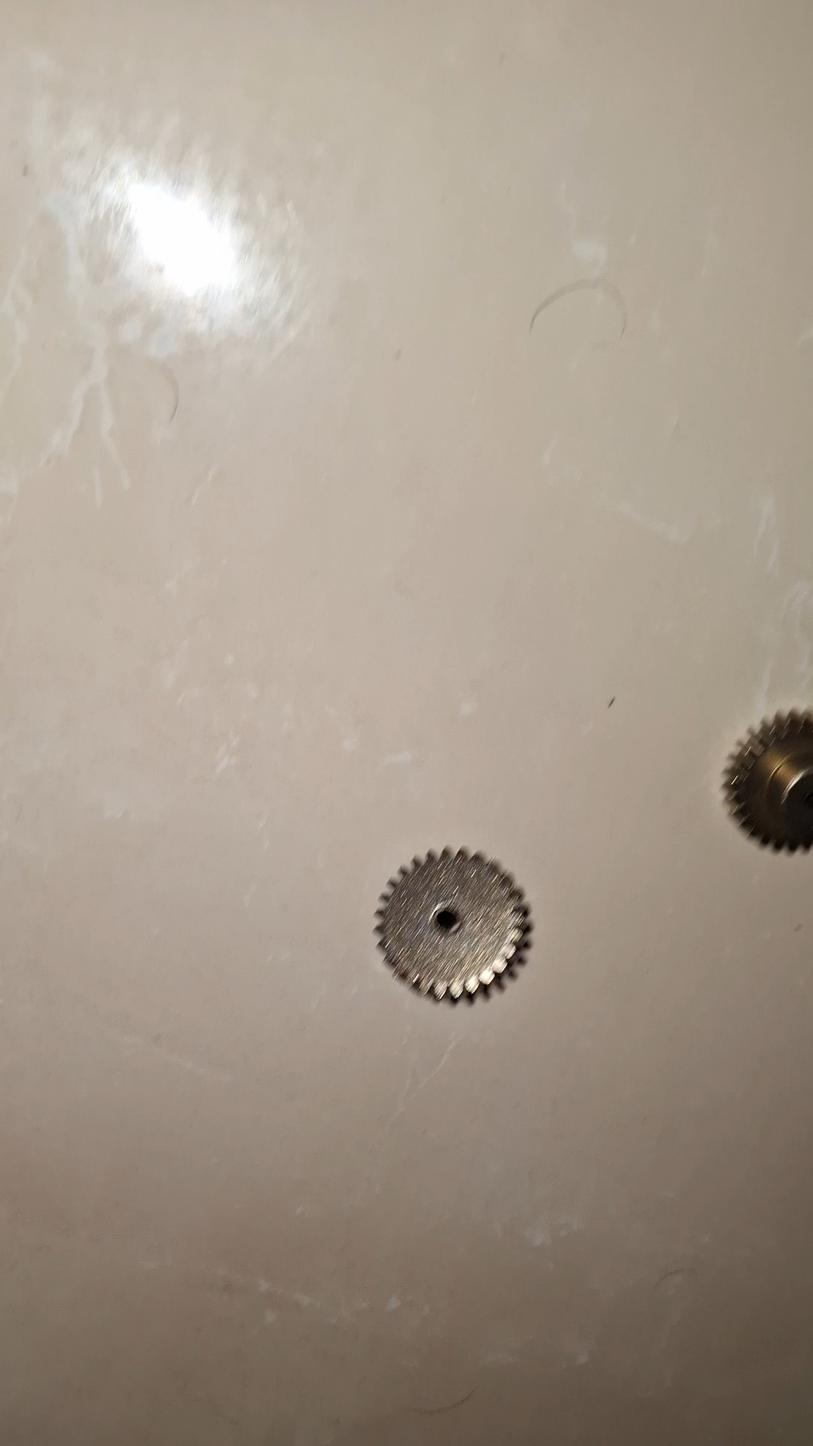spur gear: (376, 849, 527, 998), (724, 711, 813, 851)
